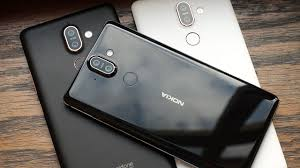nokia: (59, 20, 279, 168)
